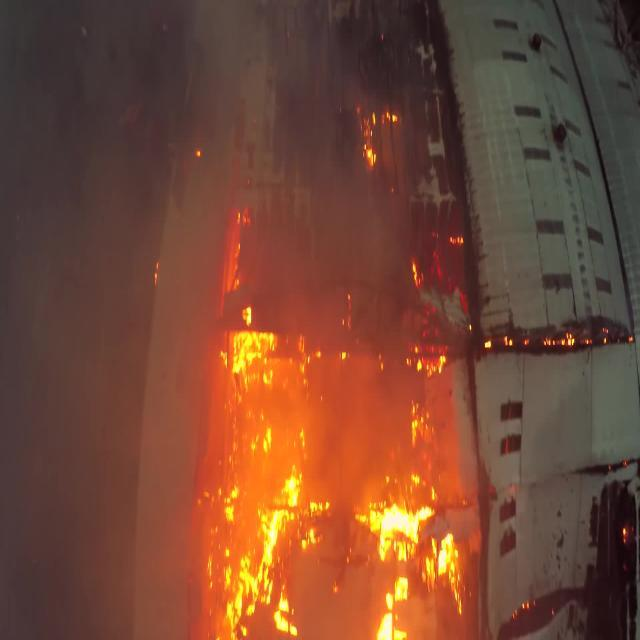Fire: (212, 320, 467, 640), (402, 220, 609, 362), (343, 92, 408, 178), (213, 196, 264, 302)
Smoke: (0, 27, 205, 639)
